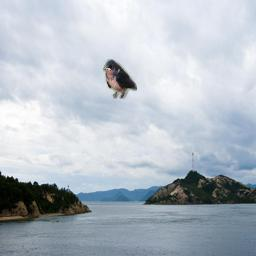Swallow: (103, 59, 137, 99)
